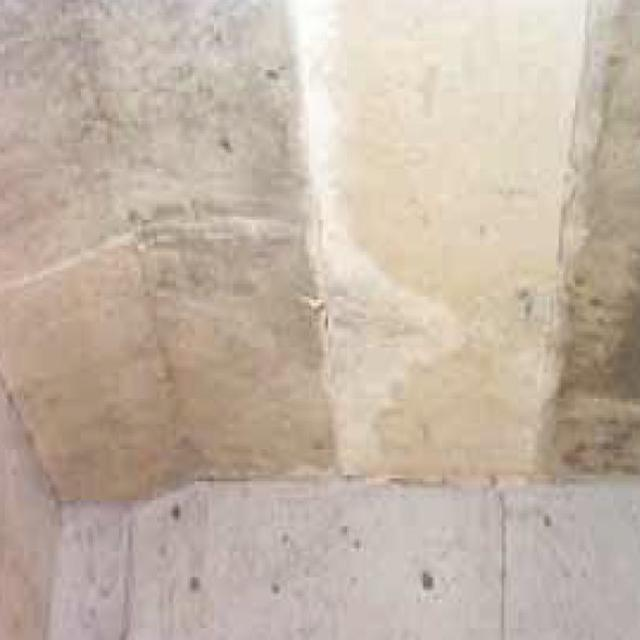freelime: (307, 246, 436, 493)
